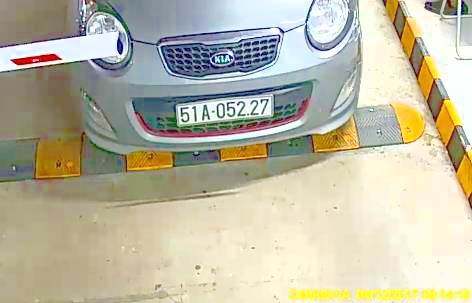plate: (174, 92, 278, 125)
